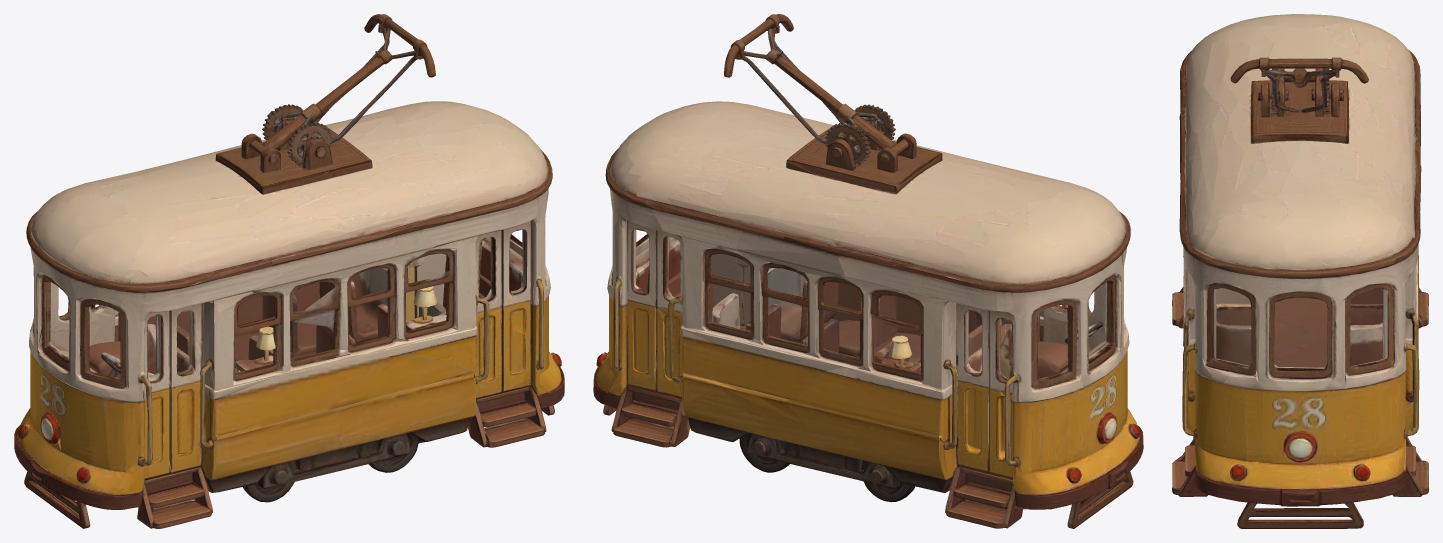
The model's file is tram.glb.
The picture shows the model from 3 angles, left to right: view 1: azimuth 30°, elevation 25°; view 2: azimuth 150°, elevation 25°; view 3: azimuth 270°, elevation 25°; orthographic projection. The views are drawn at different scales.
Parts seen in each view (by area): view 1: Mesh_0; view 2: Mesh_0; view 3: Mesh_0.
Part boxes in pixels (left/top/right/bottom): Mesh_0: left=14, top=14, right=564, bottom=528; Mesh_0: left=593, top=14, right=1143, bottom=528; Mesh_0: left=1172, top=14, right=1428, bottom=528.
Bounding box in the file's own units: 1.9 × 1.43 × 0.8039.
1 material, 1 textured.
